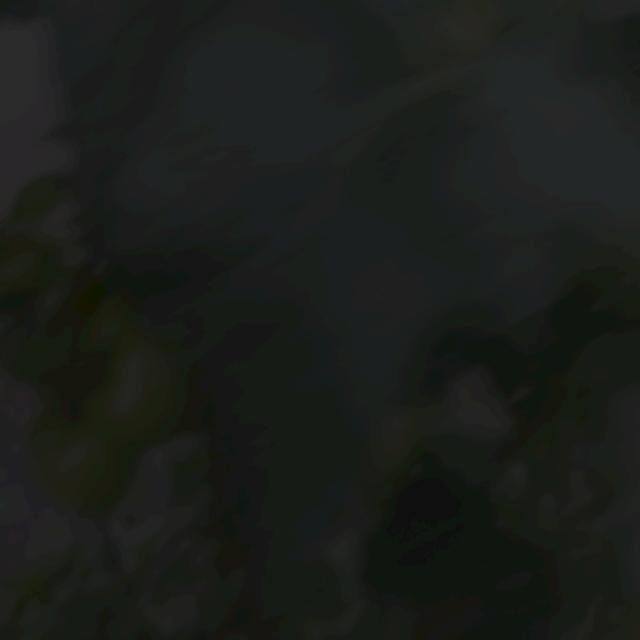tomato: (85, 313, 186, 444), (34, 402, 138, 518), (1, 225, 48, 296)
